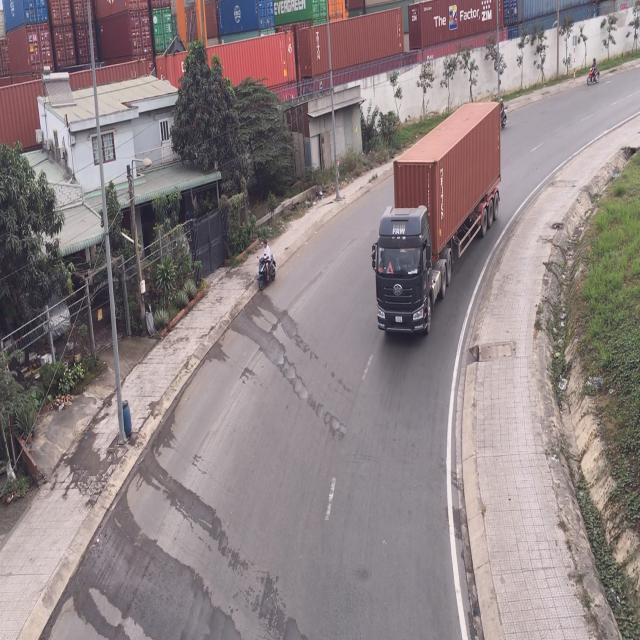motorbike: (258, 244, 279, 293), (586, 56, 600, 84), (500, 96, 508, 130)
truck: (377, 93, 503, 337)
